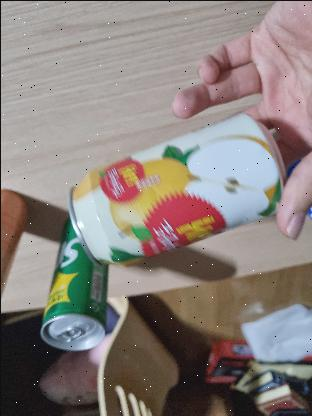Can: (67, 110, 285, 263)
